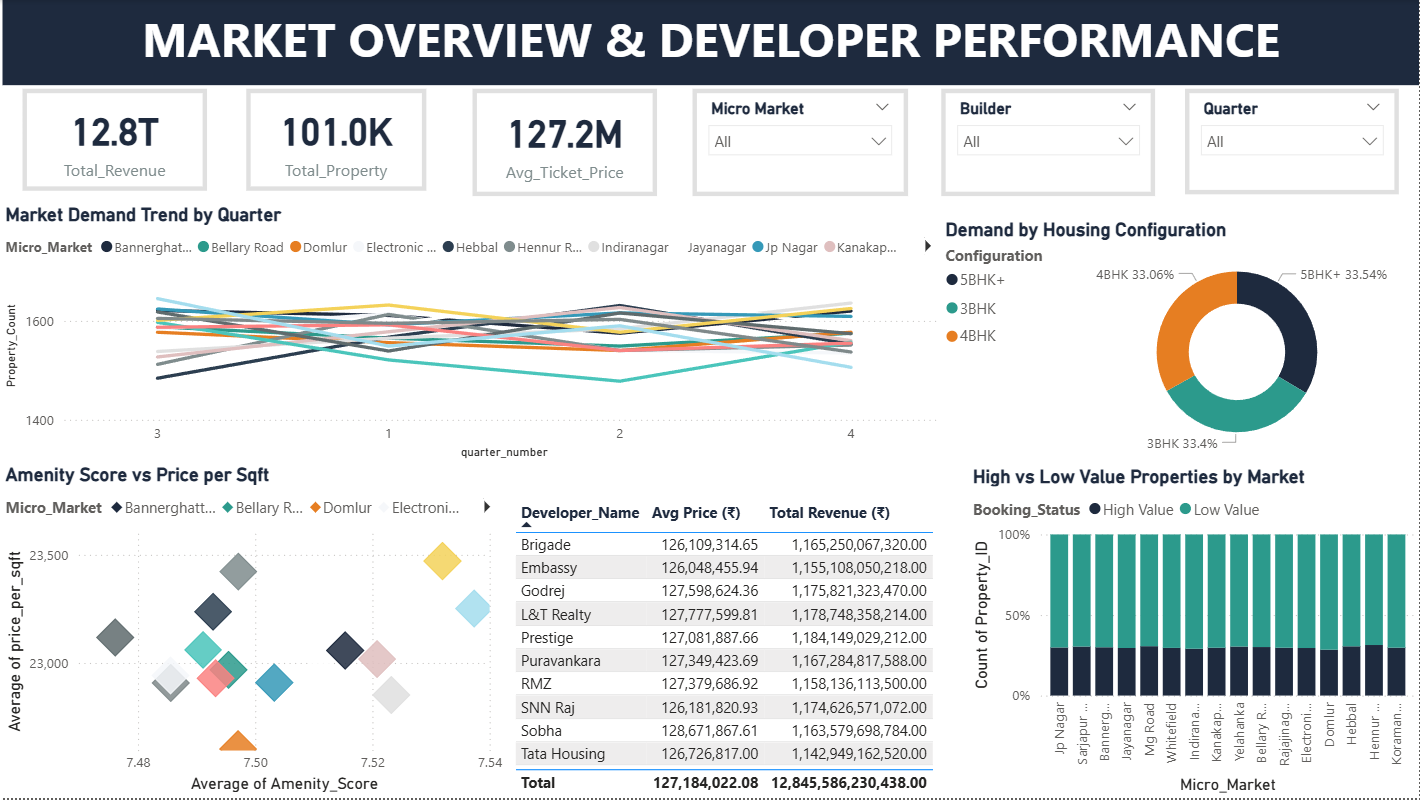

What the dashboard file says about the page in this screenshot:
{"tool":"powerbi","page":{"name":"Page 1","canvas":[1280,720],"ordinal":0},"visuals":[{"type":"lineChart","title":"Market Demand Trend by Quarter","fields":{"Category":["luxury_housing_db luxury_housing.quarter_number"],"Y":["luxury_housing_db luxury_housing.Property_Count"],"Series":["luxury_housing_db luxury_housing.Micro_Market"]},"box":[0,183.4,856,234.8],"z":0},{"type":"tableEx","fields":{"Values":["luxury_housing_db luxury_housing.Developer_Name","luxury_housing_db luxury_housing.Avg_Price","luxury_housing_db luxury_housing.Total_Revenue"]},"box":[458.7,446.7,432,273.3],"z":1000},{"type":"scatterChart","title":"Amenity Score vs Price per Sqft","fields":{"X":["Avg(luxury_housing_db luxury_housing.Amenity_Score)"],"Y":["Avg(luxury_housing_db luxury_housing.price_per_sqft)"],"Series":["luxury_housing_db luxury_housing.Micro_Market"],"Size":["luxury_housing_db luxury_housing.Property_Count"]},"box":[0,418.7,458.7,301.3],"z":2000},{"type":"hundredPercentStackedColumnChart","title":"High vs Low Value Properties by Market","fields":{"Category":["luxury_housing_db luxury_housing.Micro_Market"],"Series":["luxury_housing_db luxury_housing.Booking_Status"],"Y":["CountNonNull(luxury_housing_db luxury_housing.Property_ID)"]},"box":[872,418.9,408.3,301.6],"z":3000},{"type":"donutChart","title":"Demand by Housing Configuration","fields":{"Category":["luxury_housing_db luxury_housing.Configuration"],"Y":["luxury_housing_db luxury_housing.Property_Count"]},"box":[848,197.3,432,221.3],"z":4000},{"type":"slicer","fields":{"Values":["luxury_housing_db luxury_housing.Developer_Name"]},"box":[848.9,79.9,192.9,96.5],"z":5000},{"type":"slicer","fields":{"Values":["luxury_housing_db luxury_housing.quarter_number"]},"box":[1068,79.9,192.9,95.1],"z":6000},{"type":"slicer","fields":{"Values":["luxury_housing_db luxury_housing.Micro_Market"]},"box":[624.3,79.9,194.3,96.5],"z":7000},{"type":"textbox","box":[2.4,0,1277.9,77],"z":8000},{"type":"card","fields":{"Values":["luxury_housing_db luxury_housing.Total_Revenue"]},"box":[20.7,79.9,166.8,92.3],"z":9000},{"type":"card","fields":{"Values":["luxury_housing_db luxury_housing.Property_Count"]},"box":[221.9,79.9,162.6,92.3],"z":10000},{"type":"card","fields":{"Values":["luxury_housing_db luxury_housing.Avg_Price"]},"box":[425.8,79.9,166.8,96.5],"z":11000}]}

Visuals, with their boxes in screenshot pixels (x1, y1, x2, y2), scaled from the page's 1280x720 canvas onto the 1420x800 screenshot:
"Market Demand Trend by Quarter" lineChart: l=0, t=204, r=950, b=465
tableEx - luxury_housing_db luxury_housing.Developer_Name x luxury_housing_db luxury_housing.Avg_Price: l=509, t=496, r=988, b=799
"Amenity Score vs Price per Sqft" scatterChart: l=0, t=465, r=509, b=799
"High vs Low Value Properties by Market" hundredPercentStackedColumnChart: l=967, t=465, r=1419, b=799
"Demand by Housing Configuration" donutChart: l=941, t=219, r=1419, b=465
slicer - luxury_housing_db luxury_housing.Developer_Name: l=942, t=89, r=1156, b=196
slicer - luxury_housing_db luxury_housing.quarter_number: l=1185, t=89, r=1399, b=194
slicer - luxury_housing_db luxury_housing.Micro_Market: l=693, t=89, r=908, b=196
textbox: l=3, t=0, r=1419, b=86
card - luxury_housing_db luxury_housing.Total_Revenue: l=23, t=89, r=208, b=191
card - luxury_housing_db luxury_housing.Property_Count: l=246, t=89, r=427, b=191
card - luxury_housing_db luxury_housing.Avg_Price: l=472, t=89, r=657, b=196
